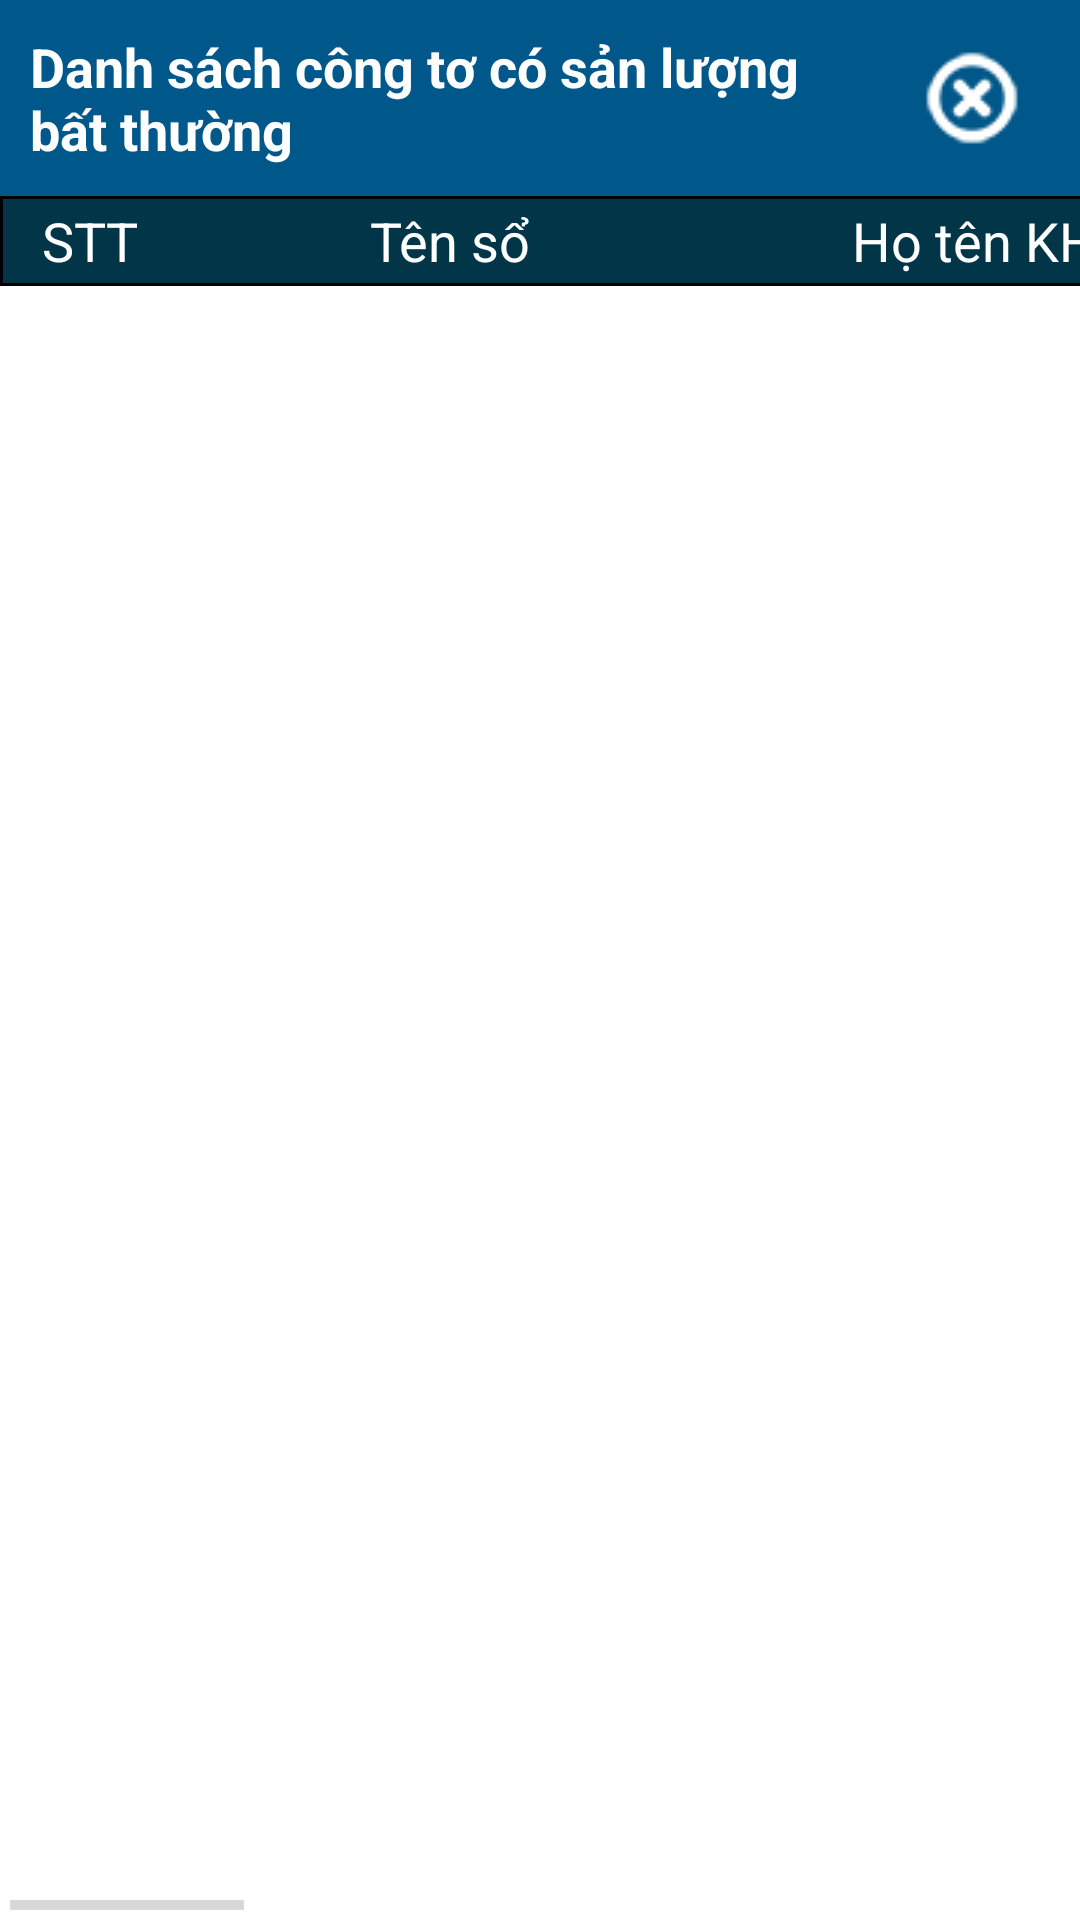

Icon bounding boxes for this 1080w x 1920h phone screenshot, format region(x1, y1, x2, y2):
gcs close: region(926, 52, 1018, 144)
